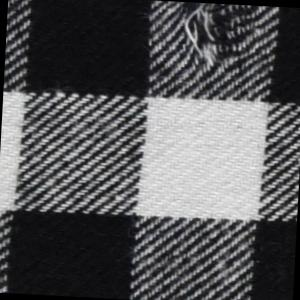Damage: (171, 2, 266, 74)
